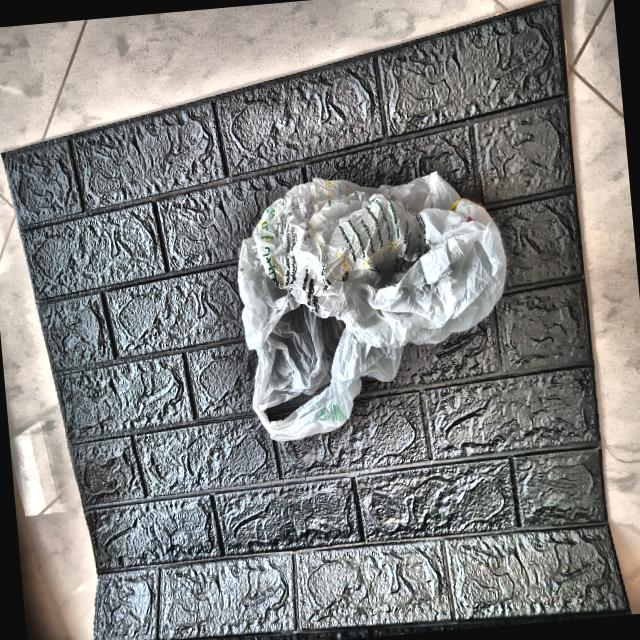plastic bag: (226, 158, 523, 447)
